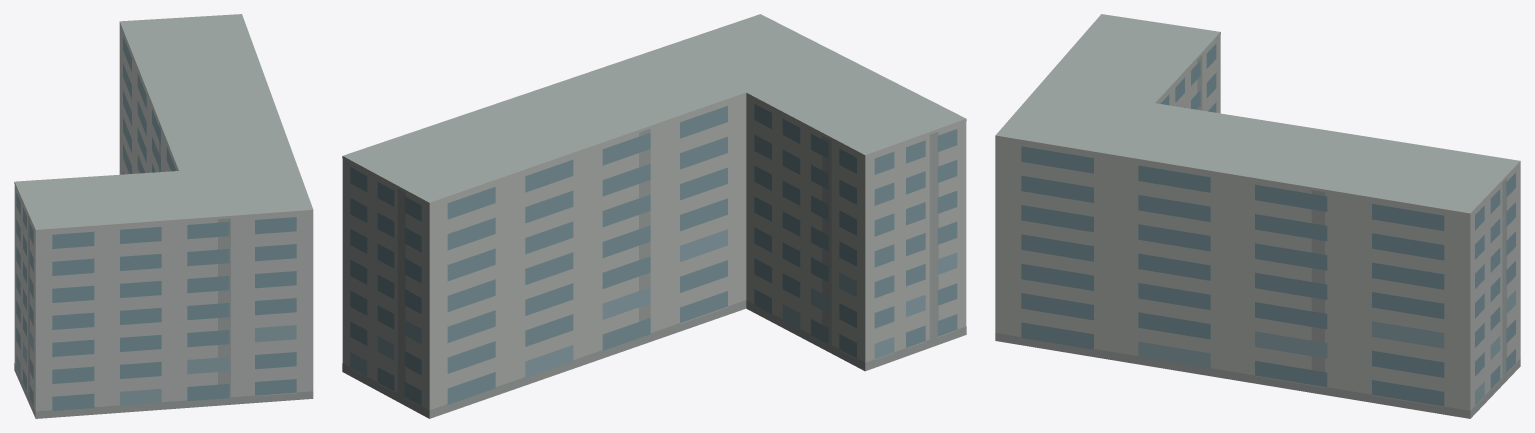
Rendered from survey-upis-33038516.glb.
3 renders of one model, left to right at view 1: azimuth 30°, elevation 25°; view 2: azimuth 150°, elevation 25°; view 3: azimuth 270°, elevation 25°, orthographic. The views are drawn at different scales.
Parts seen in each view (by area): view 1: survey-upis-33038516.tmp; view 2: survey-upis-33038516.tmp; view 3: survey-upis-33038516.tmp.
Boxes of the visible parts, x1,y1,x2,y2 form: survey-upis-33038516.tmp: (14,14,313,418); survey-upis-33038516.tmp: (342,14,966,418); survey-upis-33038516.tmp: (995,14,1520,418).
Size of the model in its own units: 39.36 by 18.9 by 43.8.
